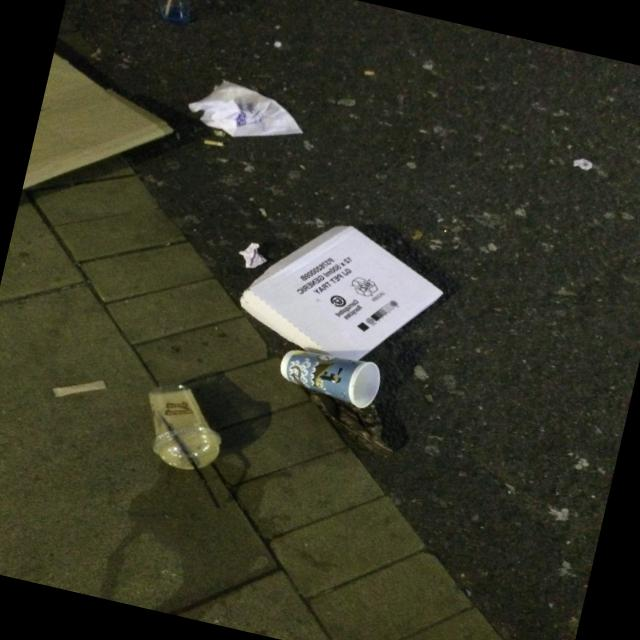less trash: (241, 226, 441, 360), (188, 80, 302, 137), (148, 387, 220, 470), (280, 350, 380, 408)
